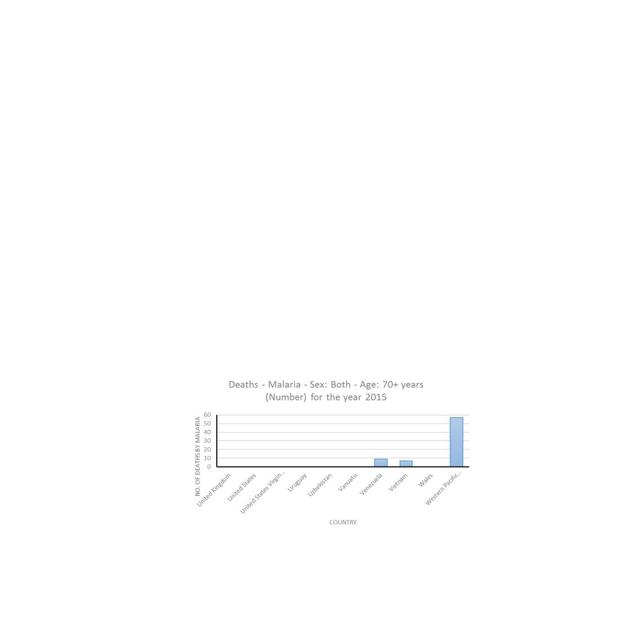Graph: (189, 379, 476, 528)
